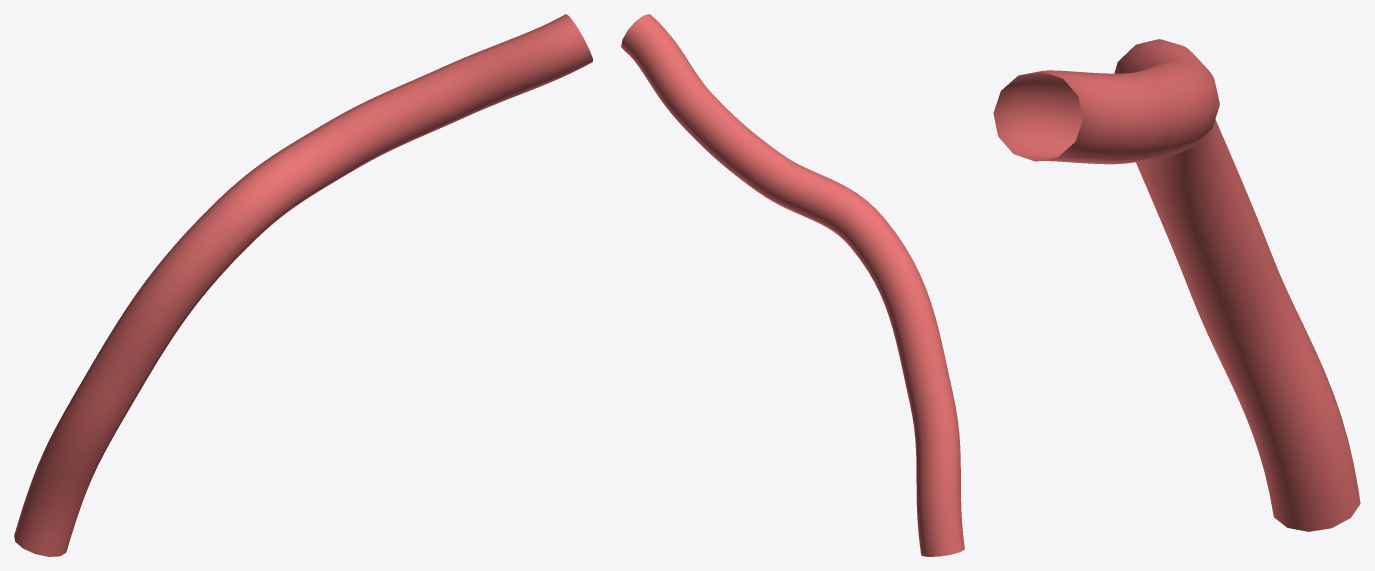
Rendered from Axillary_artery.r_BezierCurve.156.glb.
3 views of the same model, side by side, from view 1: azimuth 30°, elevation 25°; view 2: azimuth 150°, elevation 25°; view 3: azimuth 270°, elevation 25° (orthographic). The views are drawn at different scales.
Parts seen in each view (by area): view 1: Axillary_artery.r_BezierCurve.156; view 2: Axillary_artery.r_BezierCurve.156; view 3: Axillary_artery.r_BezierCurve.156.
Boxes of the visible parts, <box> form: Axillary_artery.r_BezierCurve.156: <box>14,14,592,556</box>; Axillary_artery.r_BezierCurve.156: <box>621,14,964,556</box>; Axillary_artery.r_BezierCurve.156: <box>993,39,1360,531</box>.
Bounding box in the file's own units: 0.0716 × 0.0682 × 0.0283.
